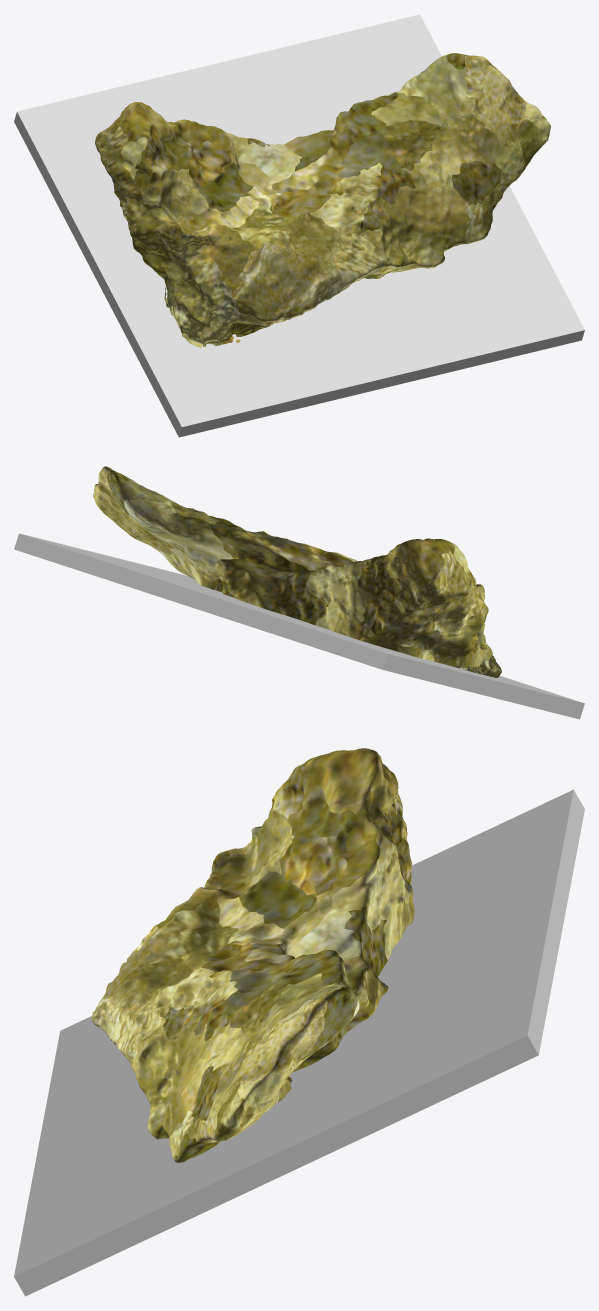
File: BacuAzuf.glb
3 views of the same model, one above another, from view 1: azimuth 30°, elevation 25°; view 2: azimuth 150°, elevation 25°; view 3: azimuth 270°, elevation 25° (orthographic). The views are drawn at different scales.
Visible parts, largest first — view 1: Meteorito.002; view 2: Meteorito.002; view 3: Meteorito.002.
Boxes of the visible parts, bbox=[...] form: Meteorito.002: bbox=[14, 14, 584, 437]; Meteorito.002: bbox=[14, 466, 584, 719]; Meteorito.002: bbox=[14, 748, 584, 1296].
Bounding box in the file's own units: 0.9487 × 0.5103 × 0.7706.
Materials: 4 (3 with a texture image).
